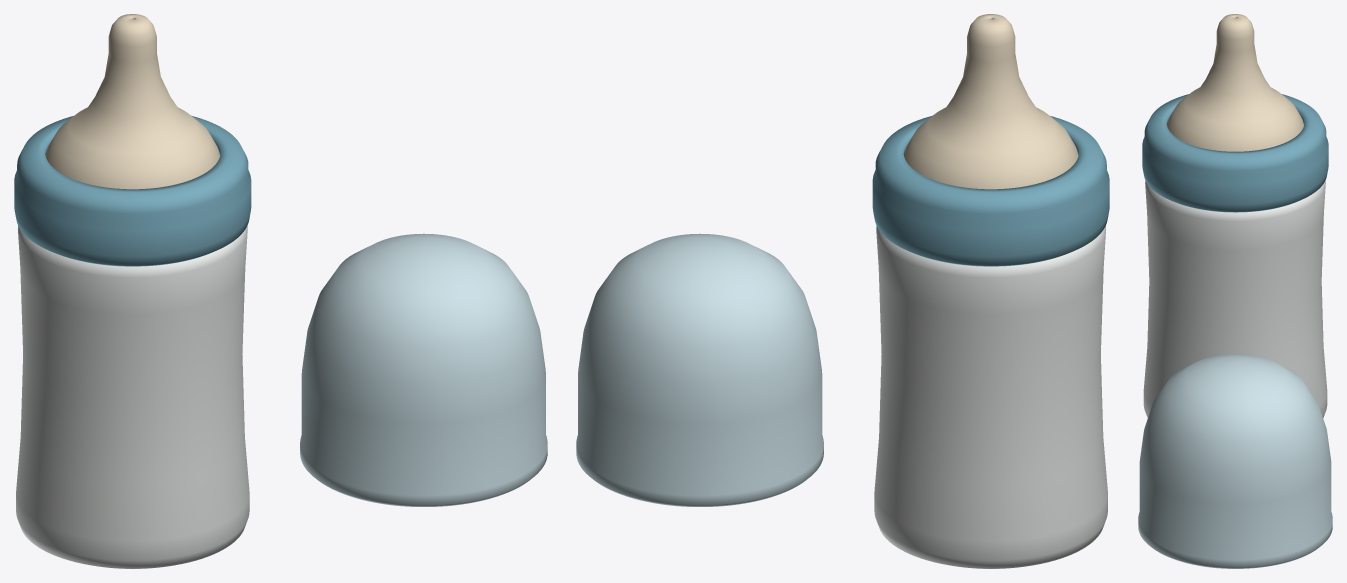
3 views of the same model, side by side, from view 1: azimuth 30°, elevation 25°; view 2: azimuth 150°, elevation 25°; view 3: azimuth 270°, elevation 25° (orthographic). The views are drawn at different scales.
Parts seen in each view (by area): view 1: Bottle - hollow wall neck and closed bottom, Protective hood - closed dome open underside, Collar - open annular retainer, Nipple - hollow shoulder flange and open tip; view 2: Bottle - hollow wall neck and closed bottom, Protective hood - closed dome open underside, Collar - open annular retainer, Nipple - hollow shoulder flange and open tip; view 3: Protective hood - closed dome open underside, Bottle - hollow wall neck and closed bottom, Collar - open annular retainer, Nipple - hollow shoulder flange and open tip.
Boxes of the visible parts, x1,y1,x2,y2 form: Bottle - hollow wall neck and closed bottom: (16, 226, 249, 568); Protective hood - closed dome open underside: (300, 233, 547, 506); Collar - open annular retainer: (14, 115, 251, 266); Nipple - hollow shoulder flange and open tip: (45, 14, 219, 189); Bottle - hollow wall neck and closed bottom: (874, 226, 1107, 568); Protective hood - closed dome open underside: (576, 233, 823, 506); Collar - open annular retainer: (872, 115, 1109, 266); Nipple - hollow shoulder flange and open tip: (904, 14, 1078, 189); Protective hood - closed dome open underside: (1138, 354, 1332, 568); Bottle - hollow wall neck and closed bottom: (1143, 181, 1327, 417); Collar - open annular retainer: (1142, 94, 1328, 212); Nipple - hollow shoulder flange and open tip: (1167, 14, 1303, 151).
Bounding box in the file's own units: 0.1635 × 0.1588 × 0.07.
